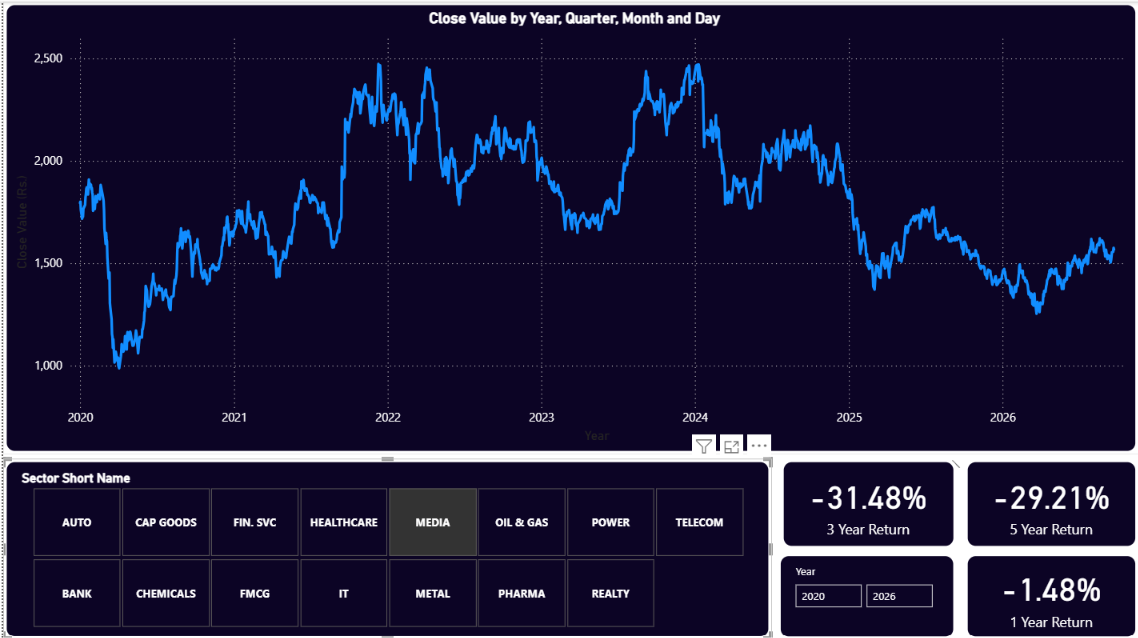

Layout of this report page (visuals, bound fields, positions):
{"tool":"powerbi","page":{"name":"Page 2","canvas":[1280,720],"ordinal":1},"visuals":[{"type":"lineChart","title":" Close Value by Year, Quarter, Month and Day","fields":{"Category":["Date Table.Date.Variation.Date Hierarchy.Year","Date Table.Date.Variation.Date Hierarchy.Quarter","Date Table.Date.Variation.Date Hierarchy.Month","Date Table.Date.Variation.Date Hierarchy.Day"],"Y":["Max(Combine Data.Close)"]},"box":[0,0,1280.2,510.5],"z":0},{"type":"slicer","fields":{"Values":["Combine Data.Sector Short Name"]},"box":[0,515.1,866.3,204.7],"z":1000},{"type":"slicer","fields":{"Values":["Date Table.Year"]},"box":[872.1,620.9,202.3,98.8],"z":1001},{"type":"card","fields":{"Values":["Combine Data.3 Year Return"]},"box":[875.6,514.5,198.8,102.3],"z":1002},{"type":"card","fields":{"Values":["Combine Data.5 Year Return"]},"box":[1083.7,514.5,196.5,102.3],"z":1003},{"type":"card","fields":{"Values":["Combine Data.1 Year Return"]},"box":[1083.7,620.9,196.5,98.8],"z":1004}]}

Visuals, with their boxes in screenshot pixels (x1, y1, x2, y2), scaled from the page's 1280x720 canvas onto the 1138x638 screenshot:
" Close Value by Year, Quarter, Month and Day" lineChart: [0, 0, 1137, 452]
slicer - Combine Data.Sector Short Name: [0, 456, 770, 637]
slicer - Date Table.Year: [775, 550, 955, 637]
card - Combine Data.3 Year Return: [778, 456, 955, 547]
card - Combine Data.5 Year Return: [963, 456, 1137, 547]
card - Combine Data.1 Year Return: [963, 550, 1137, 637]
